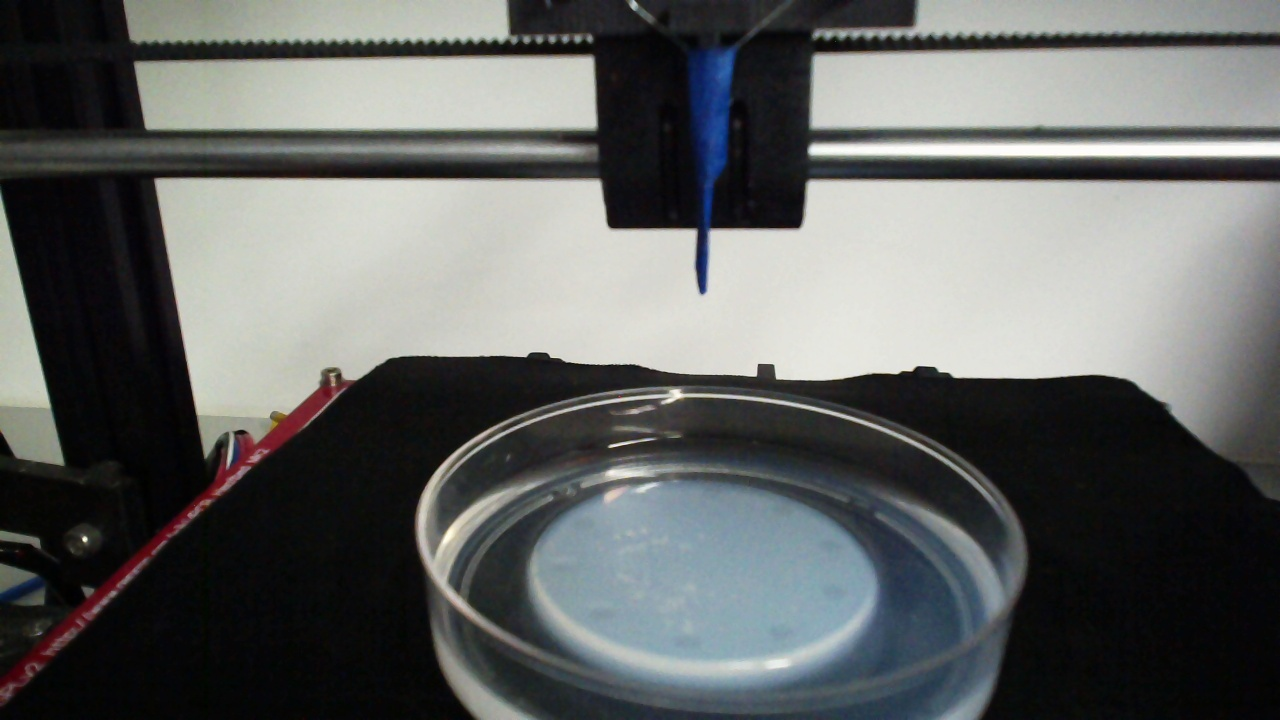groove: (821, 579, 854, 604), (672, 633, 707, 651), (765, 623, 796, 642), (814, 537, 845, 555), (548, 559, 576, 577), (571, 515, 597, 534), (588, 606, 616, 623), (770, 502, 796, 519)
needle: (695, 52, 732, 292)
